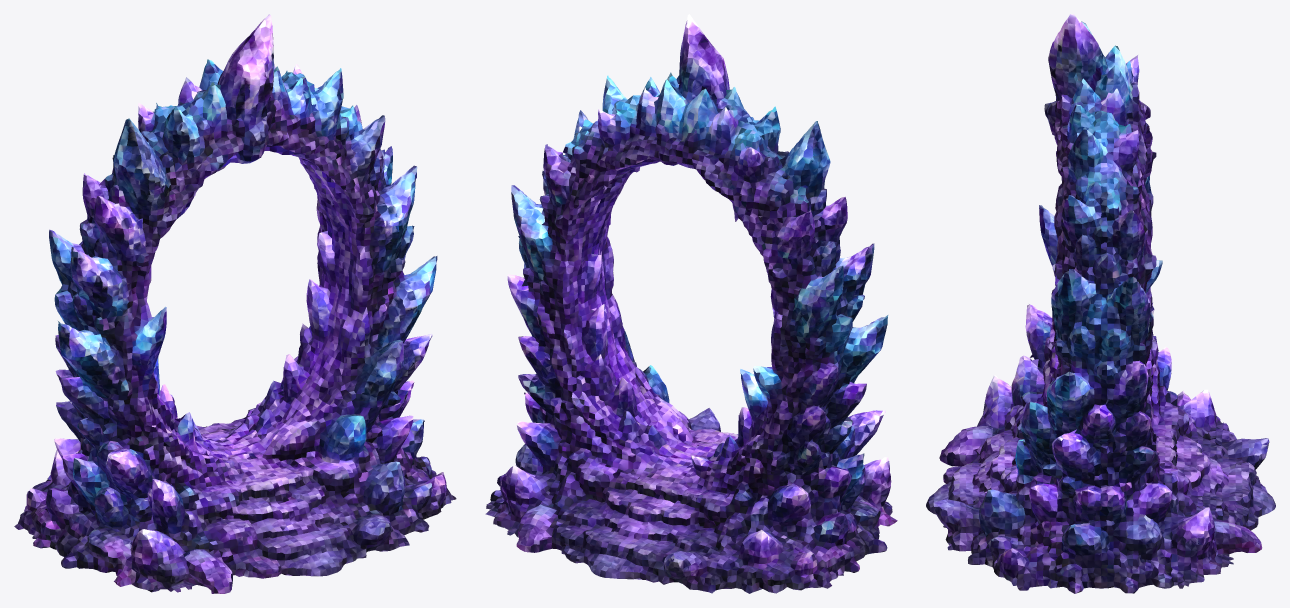
The model's file is crystal-gate.glb.
The picture shows the model from 3 angles, left to right: view 1: azimuth 30°, elevation 25°; view 2: azimuth 150°, elevation 25°; view 3: azimuth 270°, elevation 25°; orthographic projection. The views are drawn at different scales.
Bounding box in the file's own units: 1.48 × 1.9 × 1.2.
Materials: 1 (1 with a texture image).
